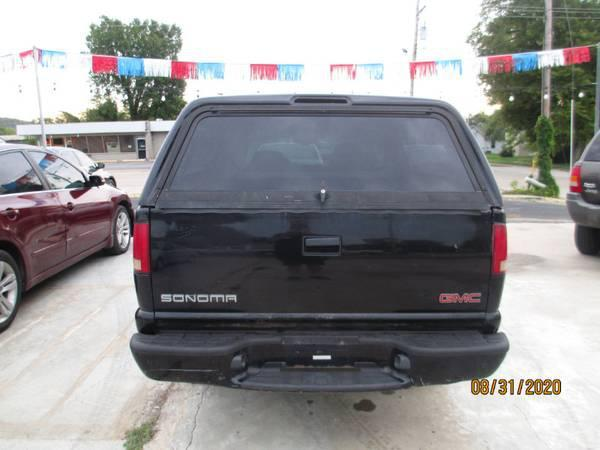Left_Taillight: (131, 224, 151, 273)
Rear_Bumper: (132, 326, 507, 390)
Rear_Windshield: (143, 96, 502, 211)
Right_Taillight: (491, 222, 509, 275)
Tailgate: (133, 208, 504, 333)
